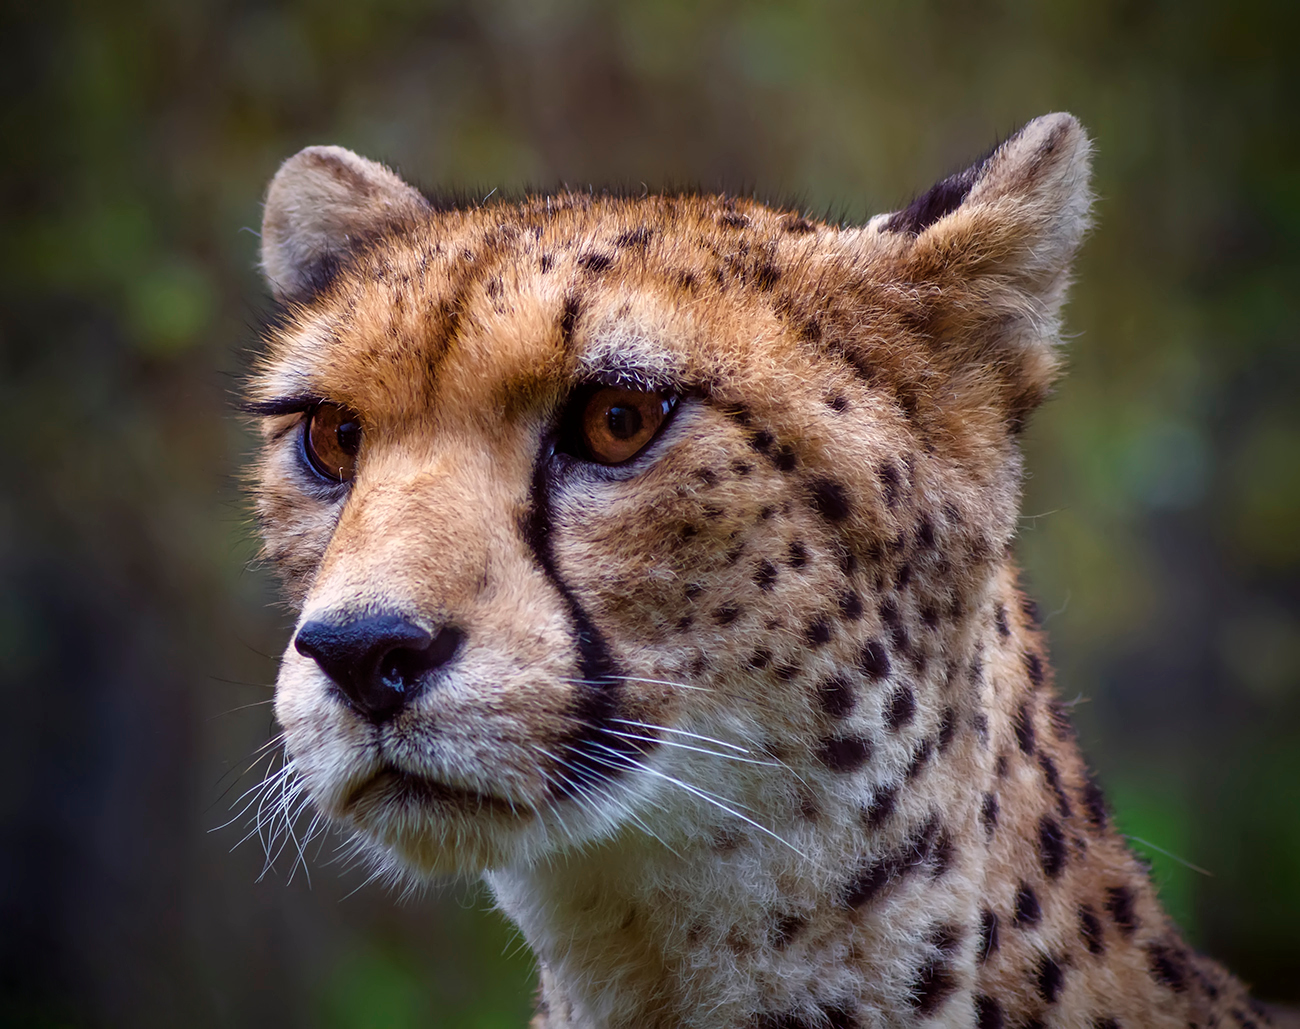cheetah: (177, 61, 1193, 996)
